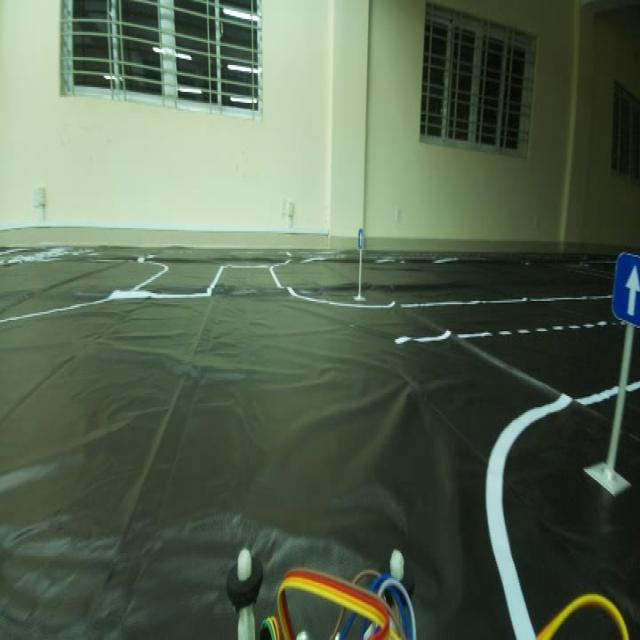onewayroad: (612, 238, 638, 330), (354, 217, 362, 242)
